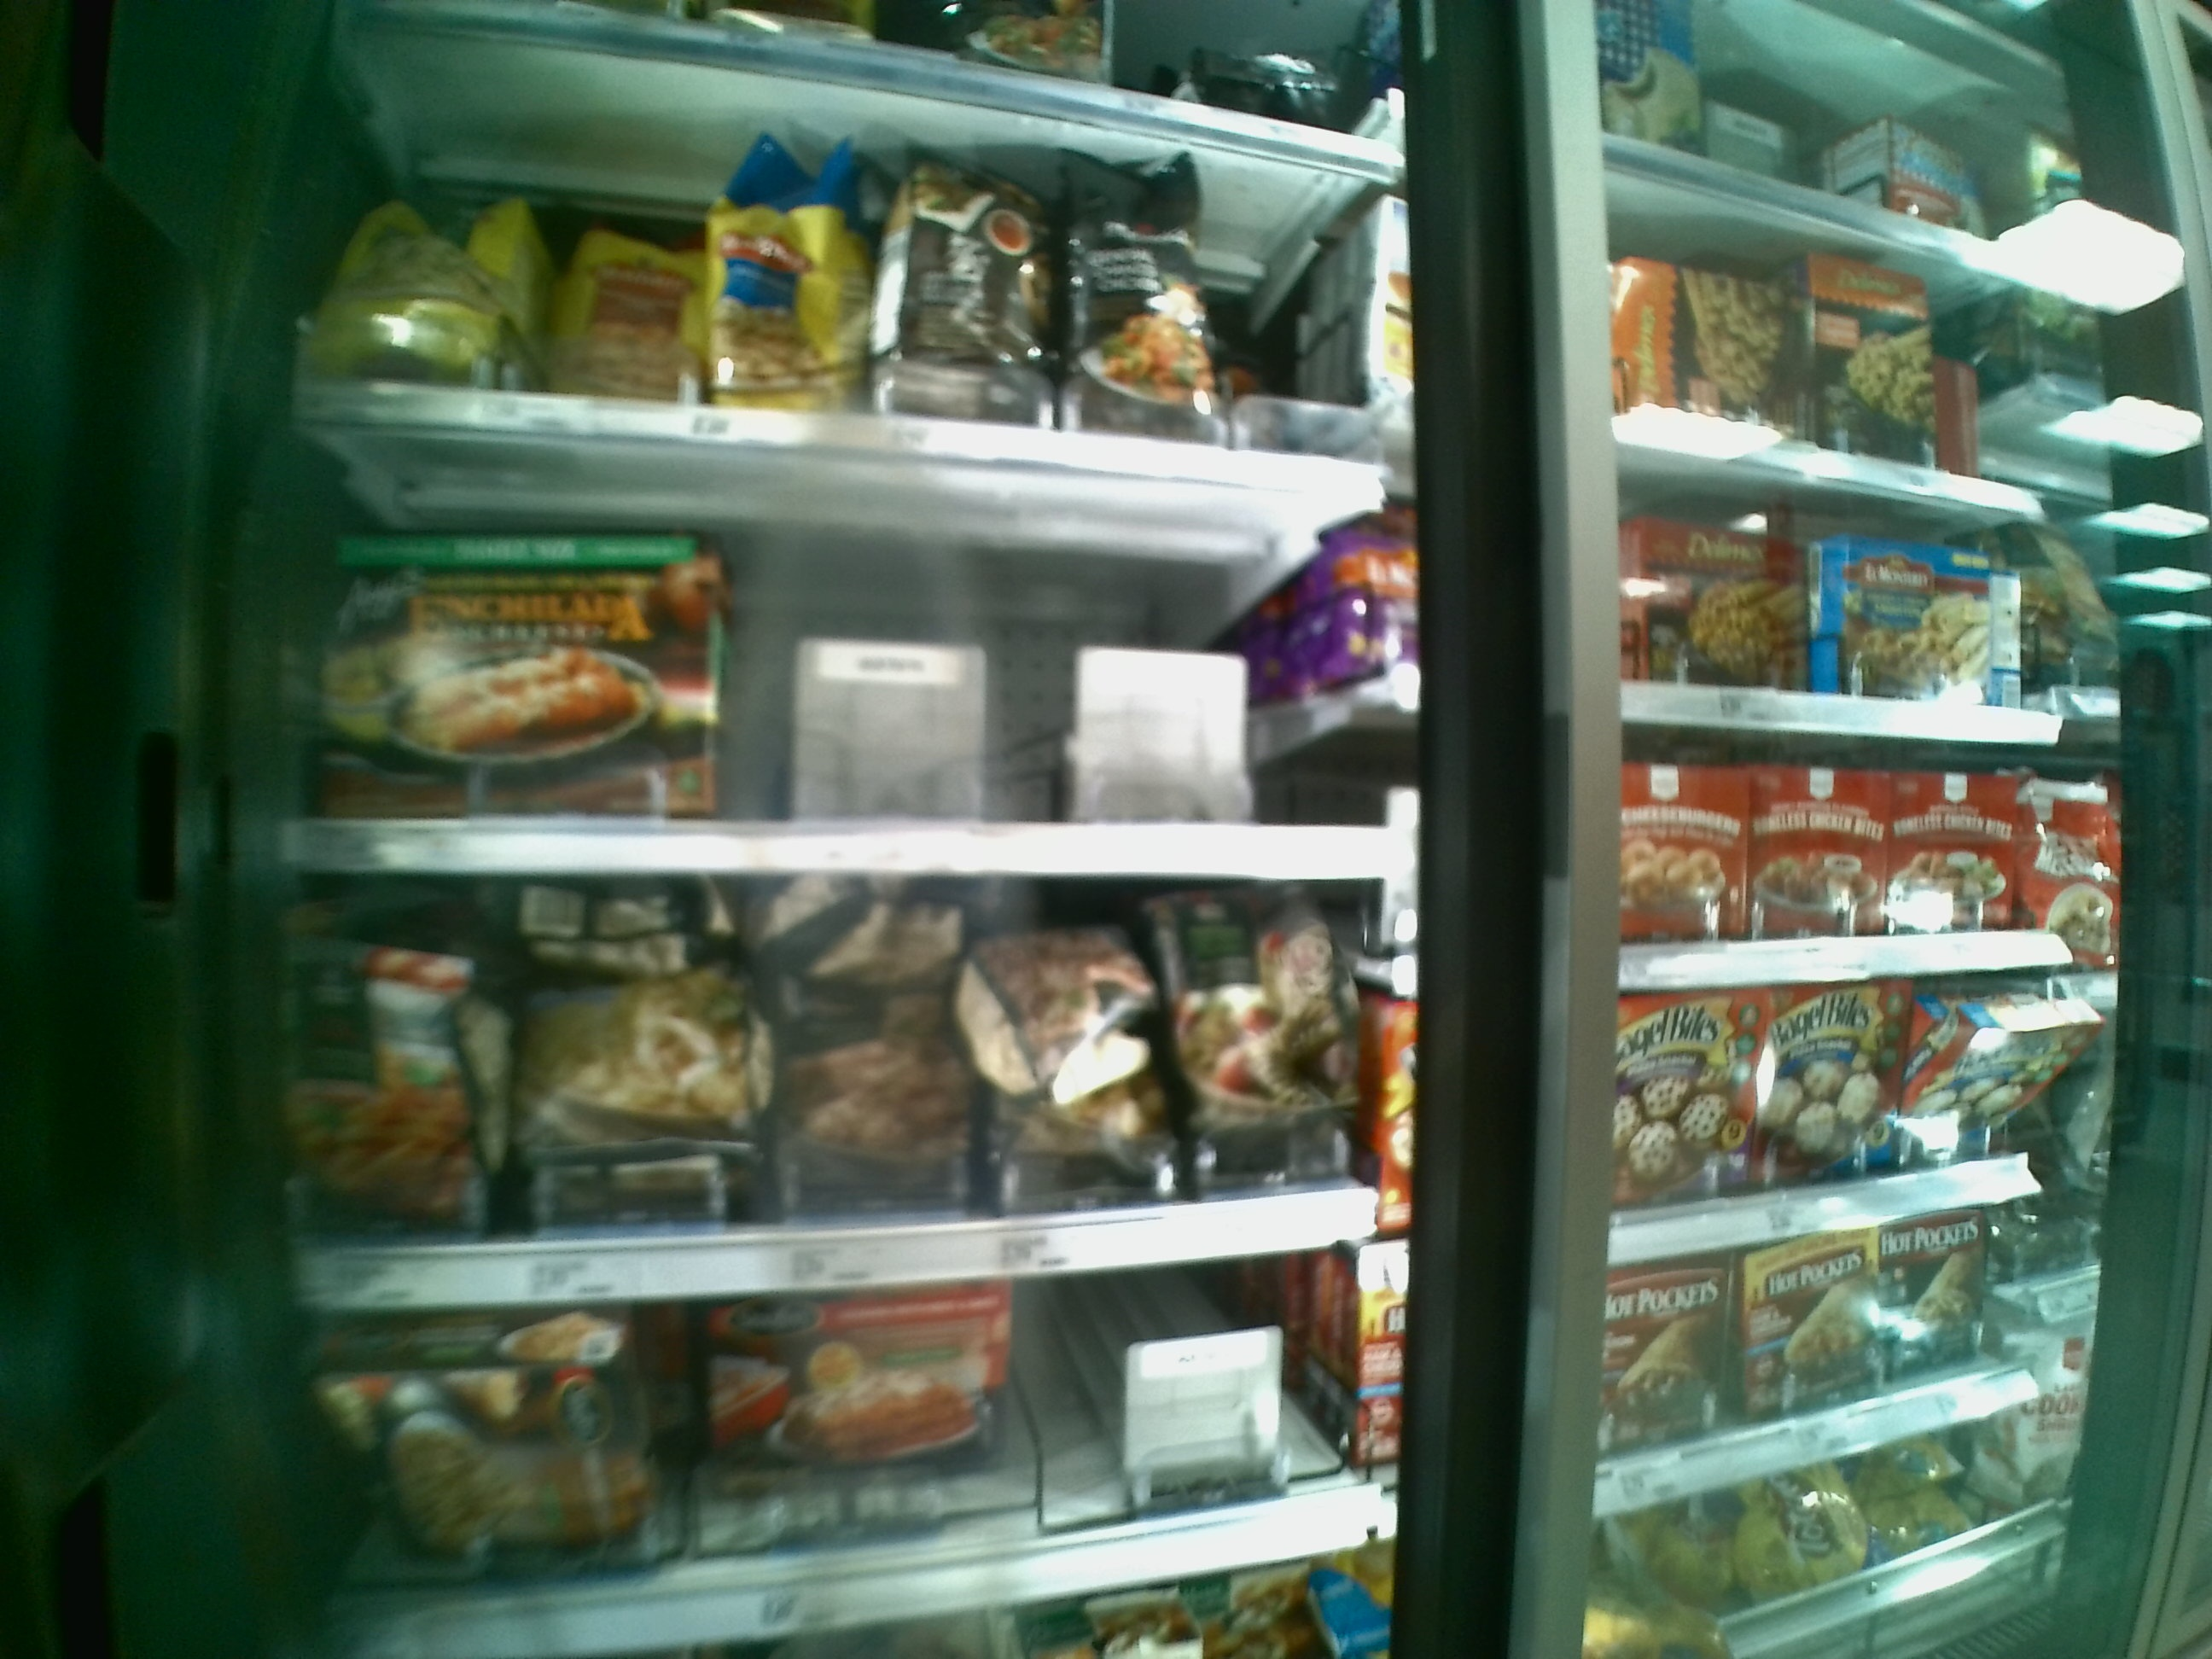shelf: (286, 871, 1397, 1270), (294, 484, 1386, 875), (293, 1244, 1407, 1621), (301, 110, 1379, 474)
